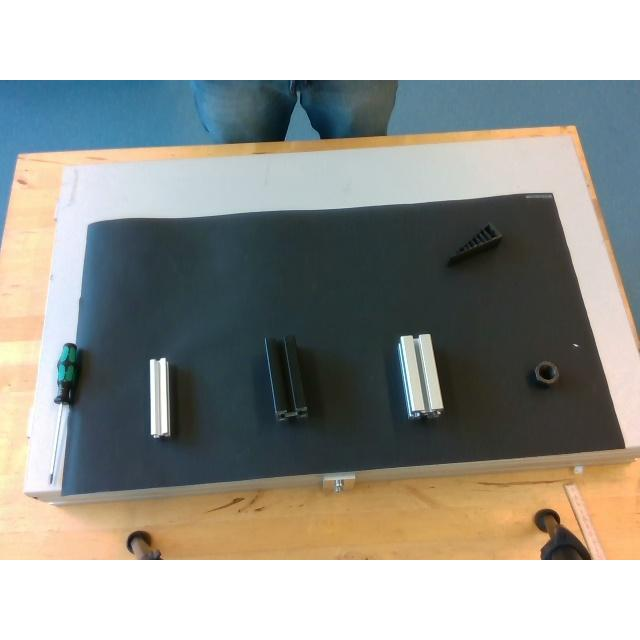F20_20_G: (147, 356, 173, 440)
M20: (533, 360, 561, 388)
S40_40_B: (266, 334, 306, 418)
S40_40_G: (398, 333, 442, 417)
Screwdriver: (46, 342, 82, 486)
